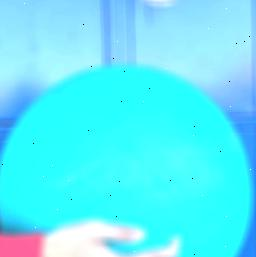algae: (0, 61, 253, 257)
